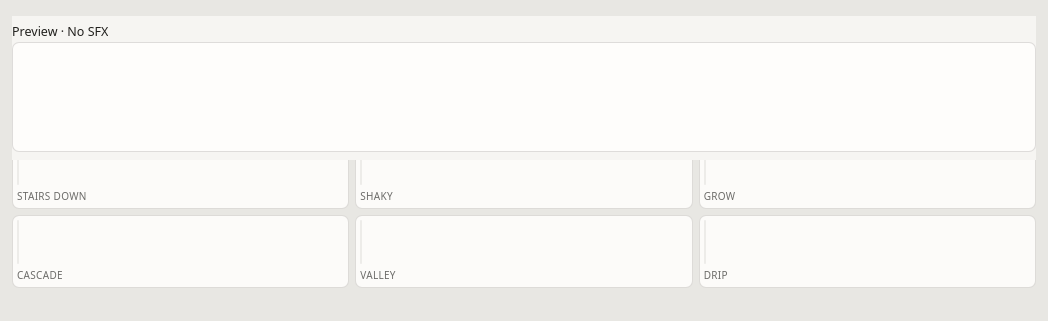
Test: a preset that is the box's mesh › writes the mesh on a click, marks its card, and shows one line of help
Click the radio button labelled "Valley".
click(378, 275)  # box [355,215,693,288]
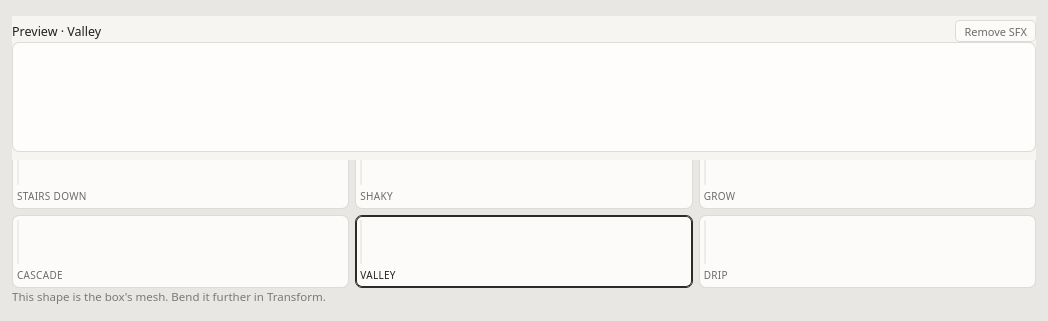
Result: the text "Preview · Valley" is shown at [12,22,101,40]
Result: the text "This shape is the box's mesh. Bend it further in Transform." is shown at [12,289,326,304]
Result: the button "Remove SFX" is shown at [955,20,1036,42]
